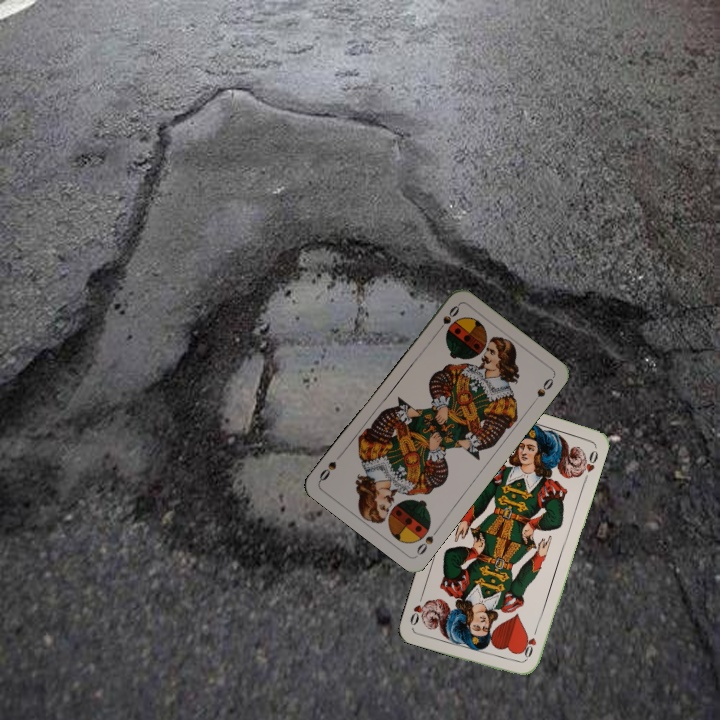HO: (520, 624, 540, 663)
SO: (432, 301, 462, 336), (412, 524, 442, 558)
